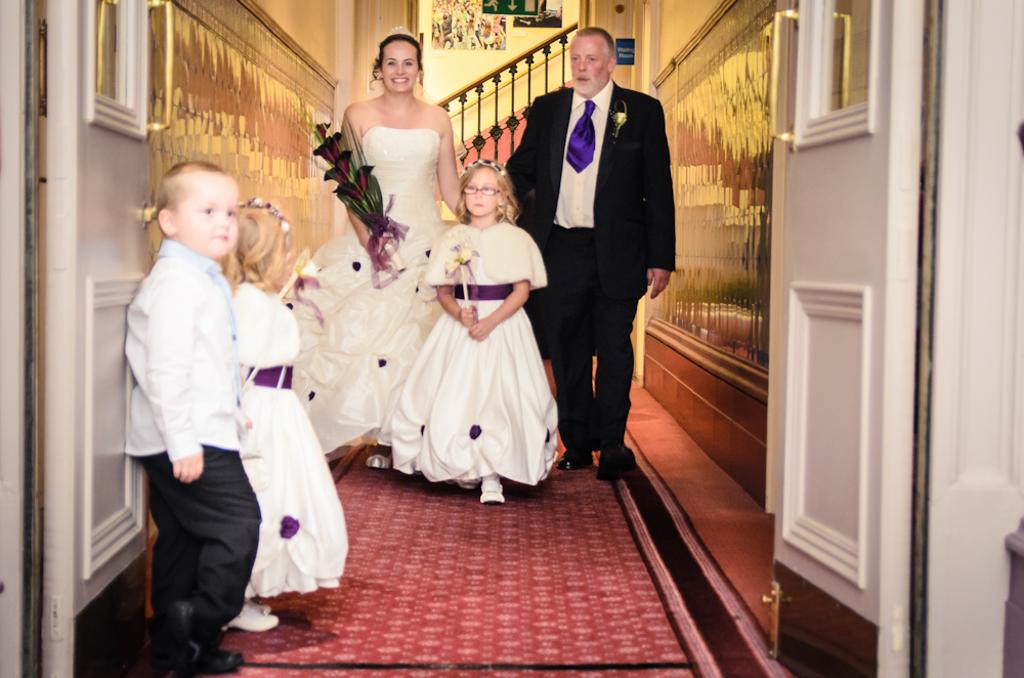face: (177, 173, 238, 256), (568, 37, 607, 92), (382, 42, 417, 90), (465, 170, 496, 215)
